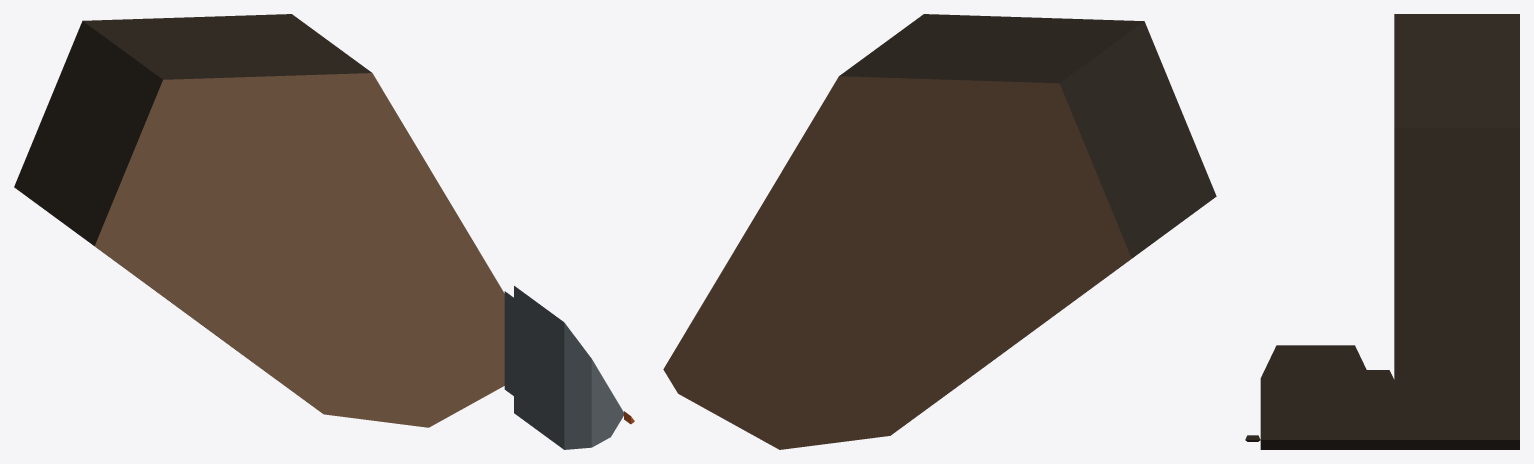
The model's file is SM_DoorShard_02_01.fbx.
3 renders of one model, left to right at view 1: azimuth 30°, elevation 25°; view 2: azimuth 150°, elevation 25°; view 3: azimuth 270°, elevation 25°, orthographic. The views are drawn at different scales.
Visible parts, largest first — view 1: SM_DoorShard_02_01; view 2: SM_DoorShard_02_01; view 3: SM_DoorShard_02_01.
Part boxes in pixels (x1,y1,x2,y2): SM_DoorShard_02_01: (14, 14, 634, 449); SM_DoorShard_02_01: (663, 14, 1216, 449); SM_DoorShard_02_01: (1245, 14, 1519, 449).
Bounding box in the file's own units: 50.93 × 34.99 × 45.19.
